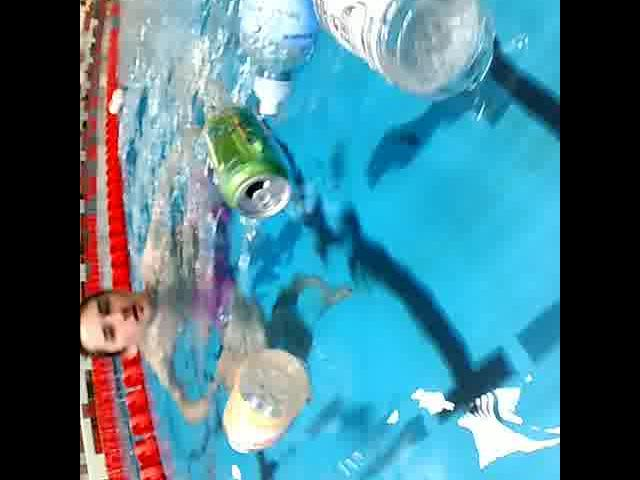Bottle: (297, 0, 499, 110), (220, 340, 314, 464), (242, 0, 330, 119)
Can: (198, 98, 296, 222)
